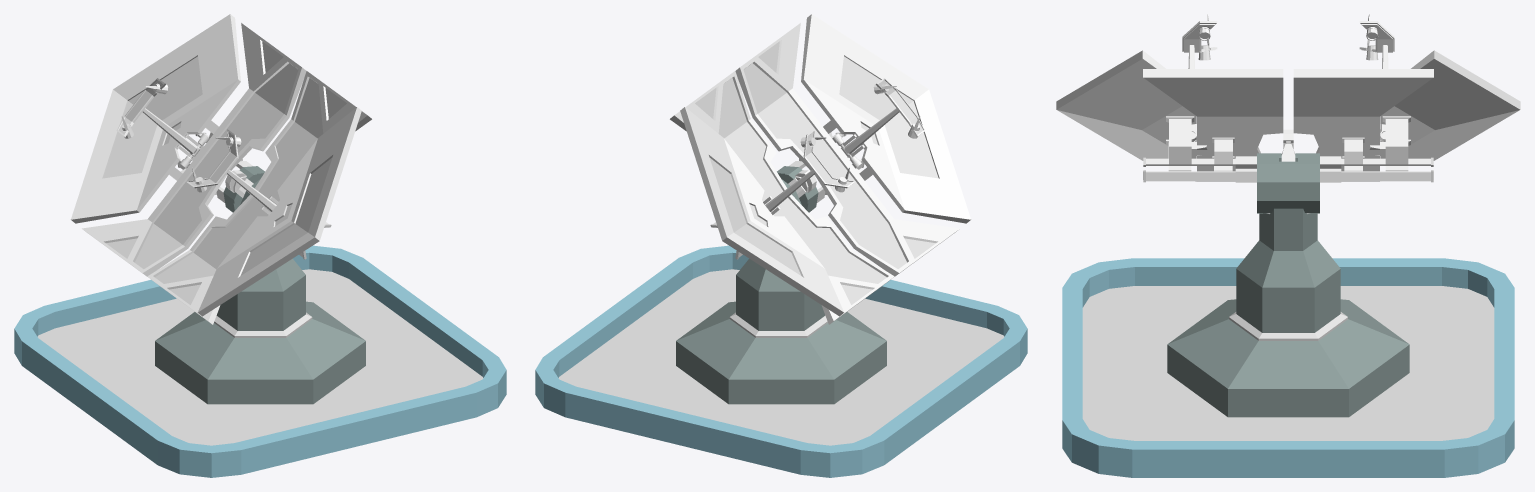
Rendered from Artefak Satelit.fbx.
3 views of the same model, side by side, from view 1: azimuth 30°, elevation 25°; view 2: azimuth 150°, elevation 25°; view 3: azimuth 270°, elevation 25° (orthographic). The views are drawn at different scales.
Visible parts, largest first — view 1: Satellite_Ground, Satellite_Dish, Satellite_Pillar; view 2: Satellite_Ground, Satellite_Dish, Satellite_Pillar; view 3: Satellite_Ground, Satellite_Dish, Satellite_Pillar.
Boxes of the visible parts, x1,y1,x2,y2 form: Satellite_Ground: [14, 245, 506, 477]; Satellite_Dish: [71, 14, 371, 324]; Satellite_Pillar: [155, 258, 365, 404]; Satellite_Ground: [535, 245, 1027, 477]; Satellite_Dish: [670, 14, 970, 324]; Satellite_Pillar: [676, 258, 886, 404]; Satellite_Ground: [1062, 258, 1514, 477]; Satellite_Dish: [1056, 14, 1520, 213]; Satellite_Pillar: [1167, 208, 1409, 417].
Bounding box in the file's own units: 866 × 740 × 888.
